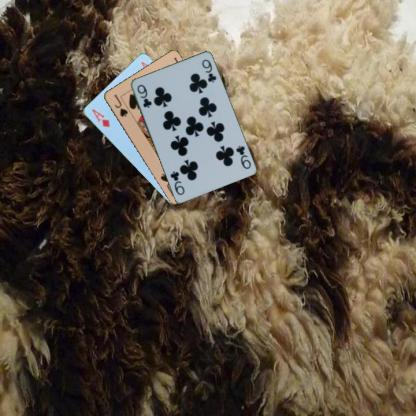9c: (134, 82, 153, 109), (233, 143, 252, 170)
Ad: (89, 106, 111, 128)
Js: (111, 91, 129, 118)
